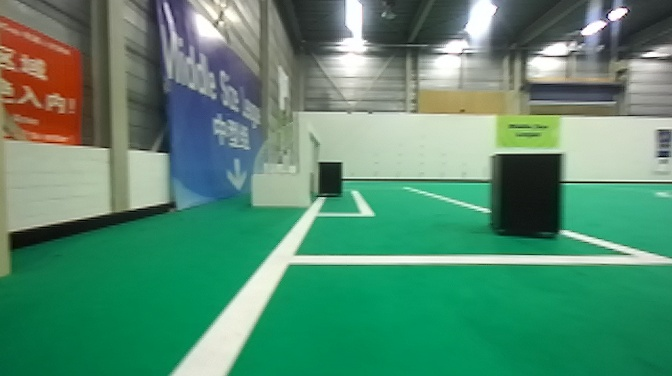goalpost: (295, 118, 311, 209), (307, 134, 322, 167)
